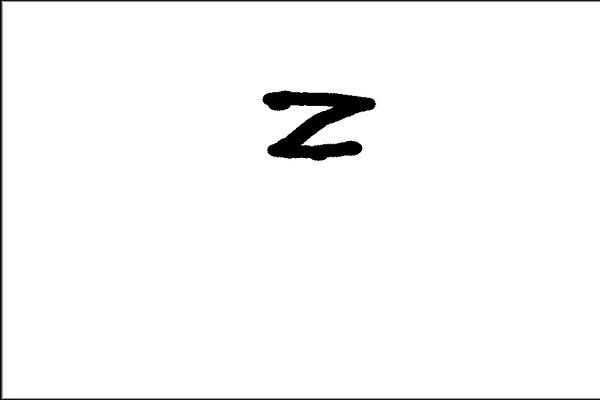Z: (255, 79, 385, 169)
